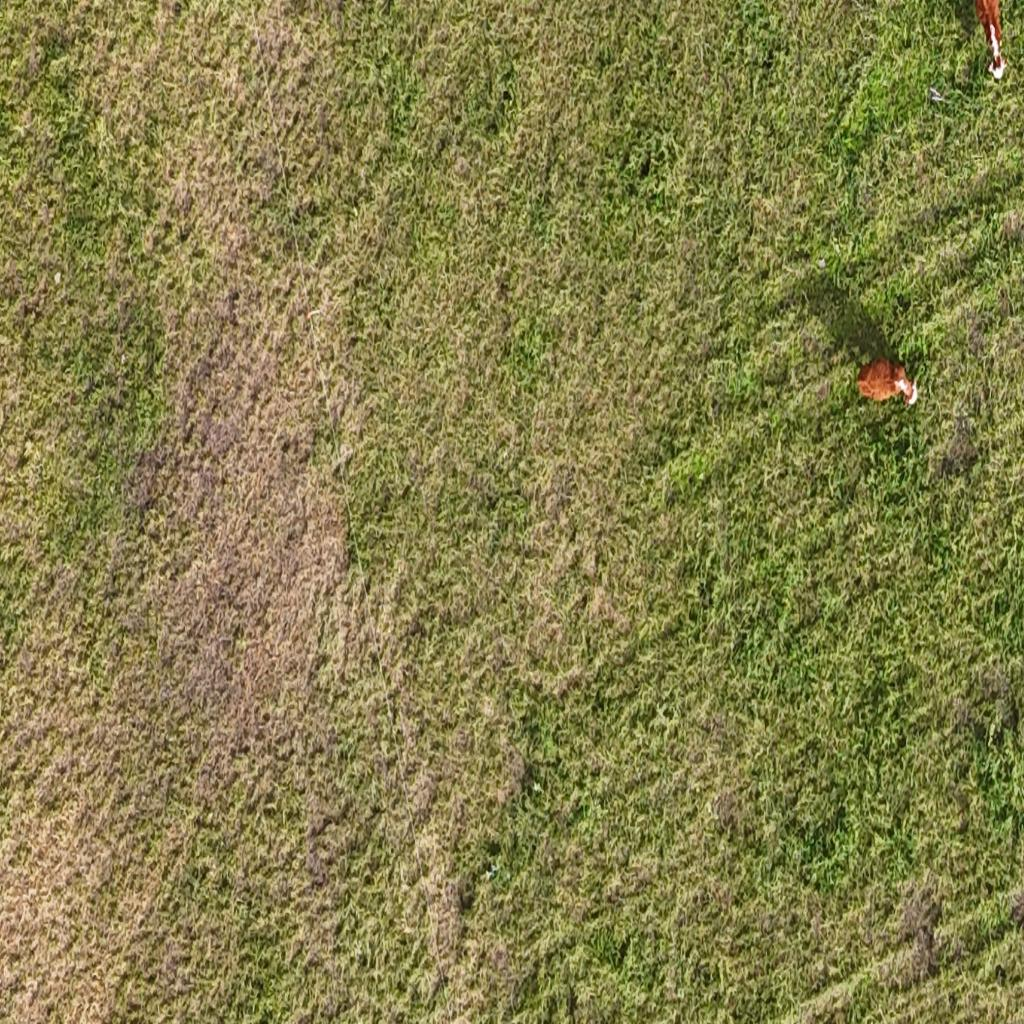cow: (850, 347, 918, 413), (975, 0, 1011, 82)
